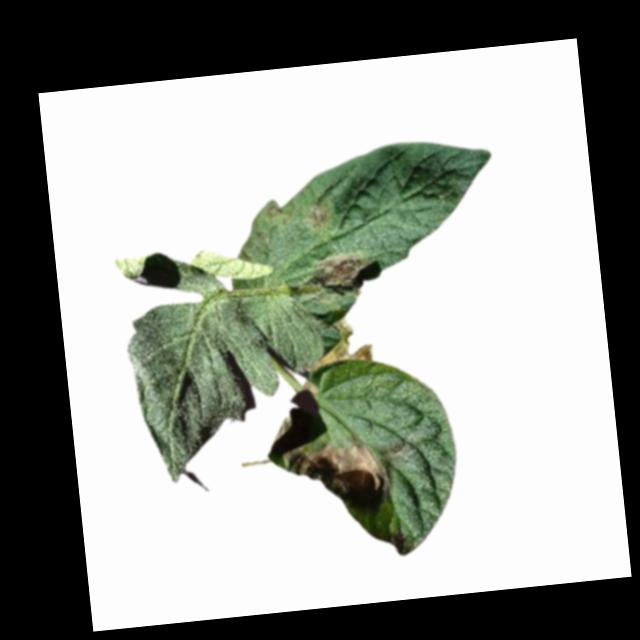Late_blight: (284, 433, 394, 509), (299, 315, 376, 373), (311, 249, 374, 296), (306, 203, 334, 231)
